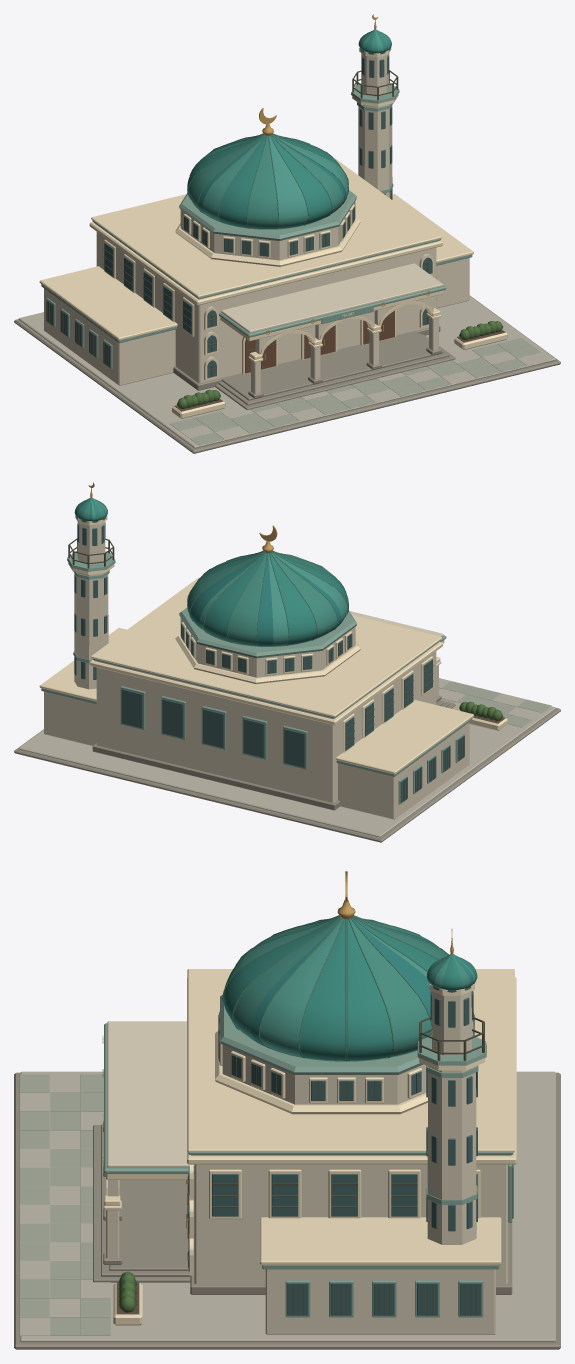
3 views of the same model, one above another, from view 1: azimuth 30°, elevation 25°; view 2: azimuth 150°, elevation 25°; view 3: azimuth 270°, elevation 25° (orthographic). The views are drawn at different scales.
Parts seen in each view (by area): view 1: Prayer Hall and Rear Wings, Paved Forecourt, Jade Domes and Finials, Pointed Entrance Arcade, Lancets and Geometric Screens, Single Minaret, Entry Fittings; view 2: Prayer Hall and Rear Wings, Jade Domes and Finials, Paved Forecourt, Lancets and Geometric Screens, Single Minaret, Entry Fittings, Pointed Entrance Arcade; view 3: Prayer Hall and Rear Wings, Paved Forecourt, Jade Domes and Finials, Single Minaret, Pointed Entrance Arcade, Lancets and Geometric Screens, Entry Fittings.
Boxes of the visible parts, bbox=[...] form: Prayer Hall and Rear Wings: bbox=[39, 158, 473, 390]; Paved Forecourt: bbox=[14, 295, 560, 453]; Jade Domes and Finials: bbox=[175, 108, 360, 266]; Pointed Entrance Arcade: bbox=[219, 263, 446, 398]; Lancets and Geometric Screens: bbox=[46, 239, 433, 380]; Single Minaret: bbox=[351, 14, 399, 199]; Entry Fittings: bbox=[172, 321, 507, 418]; Prayer Hall and Rear Wings: bbox=[39, 577, 473, 819]; Jade Domes and Finials: bbox=[175, 525, 360, 683]; Paved Forecourt: bbox=[14, 678, 560, 842]; Lancets and Geometric Screens: bbox=[120, 656, 464, 804]; Single Minaret: bbox=[67, 482, 115, 689]; Entry Fittings: bbox=[459, 701, 507, 730]; Pointed Entrance Arcade: bbox=[349, 611, 446, 702]; Prayer Hall and Rear Wings: bbox=[187, 969, 516, 1334]; Paved Forecourt: bbox=[14, 1071, 560, 1349]; Jade Domes and Finials: bbox=[215, 871, 477, 1114]; Single Minaret: bbox=[417, 929, 486, 1244]; Pointed Entrance Arcade: bbox=[102, 1021, 194, 1264]; Lancets and Geometric Screens: bbox=[187, 1164, 513, 1317]; Entry Fittings: bbox=[113, 1180, 187, 1325].
Bounding box in the file's own units: 27.2 × 18.05 × 23.
